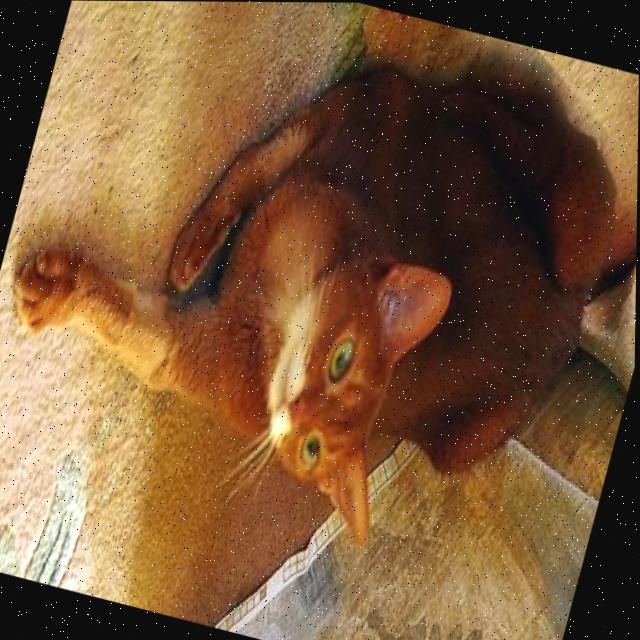Abyssinian: (0, 0, 640, 590)
